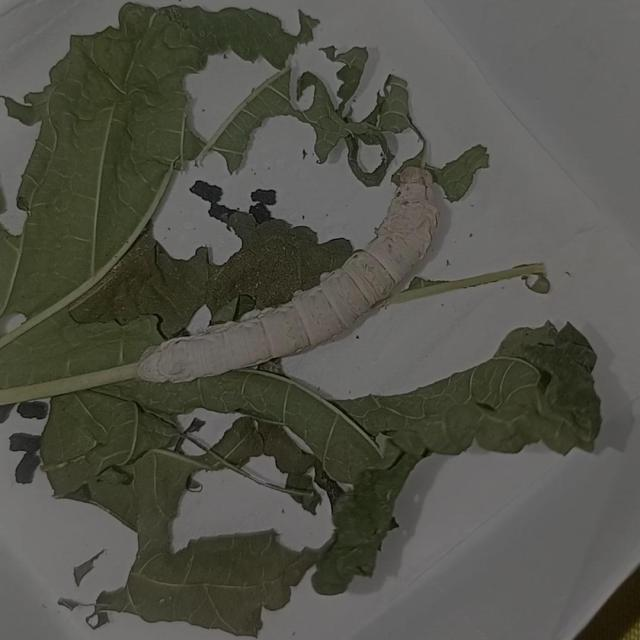Healthy: (104, 145, 485, 417)
